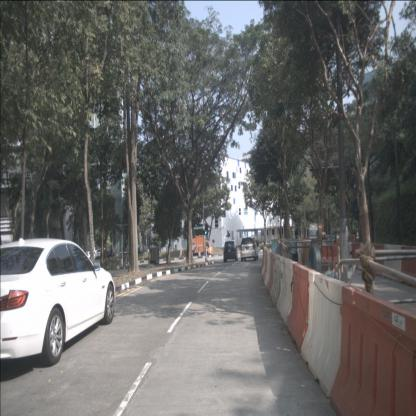movable_object-barrier: (330, 284, 416, 416), (300, 270, 350, 399), (286, 263, 316, 353), (276, 257, 298, 327), (270, 254, 286, 308), (381, 244, 403, 282), (400, 245, 416, 287), (321, 243, 345, 270), (368, 243, 384, 277), (266, 252, 277, 297), (263, 250, 274, 287), (351, 242, 364, 269), (262, 248, 270, 286), (262, 249, 269, 282), (262, 247, 268, 277), (260, 246, 266, 273), (349, 235, 355, 243)
vehicle-car: (0, 238, 116, 366), (240, 236, 258, 261), (223, 240, 238, 262), (136, 244, 149, 254), (104, 249, 116, 258), (328, 234, 337, 244)
vehicle-truck: (189, 235, 213, 256), (309, 223, 318, 244)
